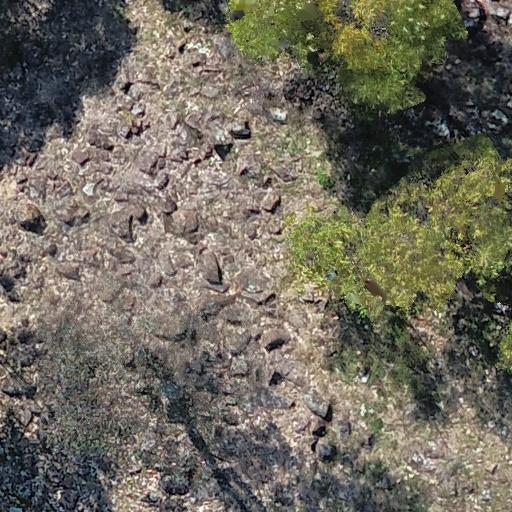stone: (446, 267, 512, 364), (406, 72, 466, 144), (65, 137, 124, 198), (0, 237, 48, 296), (282, 72, 336, 114), (461, 190, 512, 225), (178, 46, 224, 84), (159, 382, 197, 426), (464, 34, 508, 71), (107, 205, 146, 241), (308, 417, 336, 458), (255, 386, 295, 412), (460, 0, 492, 31), (270, 370, 308, 396), (408, 292, 438, 324), (185, 421, 213, 455), (411, 394, 445, 422), (22, 474, 53, 503), (404, 316, 432, 348), (302, 392, 332, 420), (367, 8, 393, 38), (160, 472, 191, 496), (198, 252, 221, 284), (419, 438, 451, 461), (15, 203, 42, 230), (270, 482, 298, 508), (2, 378, 38, 398), (84, 126, 114, 150), (181, 143, 212, 166), (236, 151, 262, 178), (135, 148, 162, 174), (153, 326, 193, 343), (362, 277, 388, 303), (227, 333, 255, 357), (300, 288, 328, 312), (204, 291, 238, 310), (54, 260, 82, 282), (177, 208, 201, 233), (122, 117, 149, 139), (109, 244, 137, 265), (454, 278, 478, 302), (277, 270, 301, 294), (156, 251, 178, 277), (62, 208, 90, 228), (407, 452, 433, 471), (228, 355, 250, 377), (489, 179, 509, 203), (128, 78, 159, 93), (181, 114, 203, 135), (220, 406, 243, 426), (265, 164, 287, 184), (170, 122, 190, 144), (304, 49, 324, 70), (0, 273, 18, 296), (376, 471, 396, 491), (230, 122, 252, 140), (16, 328, 38, 346), (486, 2, 508, 20), (162, 212, 178, 236), (262, 195, 281, 215), (213, 143, 234, 161), (200, 282, 231, 294), (161, 196, 179, 215), (71, 148, 90, 166), (139, 435, 158, 453), (490, 108, 510, 125), (240, 290, 264, 304), (345, 292, 366, 308), (264, 337, 286, 352), (268, 370, 286, 388), (22, 410, 37, 430), (336, 420, 352, 438), (154, 173, 170, 190), (118, 109, 137, 123), (258, 292, 276, 306), (269, 108, 287, 122), (356, 367, 371, 383), (312, 424, 328, 438), (118, 123, 132, 139), (130, 102, 144, 117), (214, 128, 228, 143), (82, 182, 96, 197), (119, 80, 133, 94), (145, 492, 161, 503), (231, 10, 245, 22), (480, 489, 492, 502), (411, 452, 423, 464), (279, 39, 290, 52), (128, 466, 142, 476), (468, 346, 479, 358), (452, 482, 460, 497), (489, 463, 499, 475), (325, 271, 337, 281), (464, 20, 476, 28), (460, 243, 472, 251), (500, 426, 508, 438), (8, 507, 23, 512)
